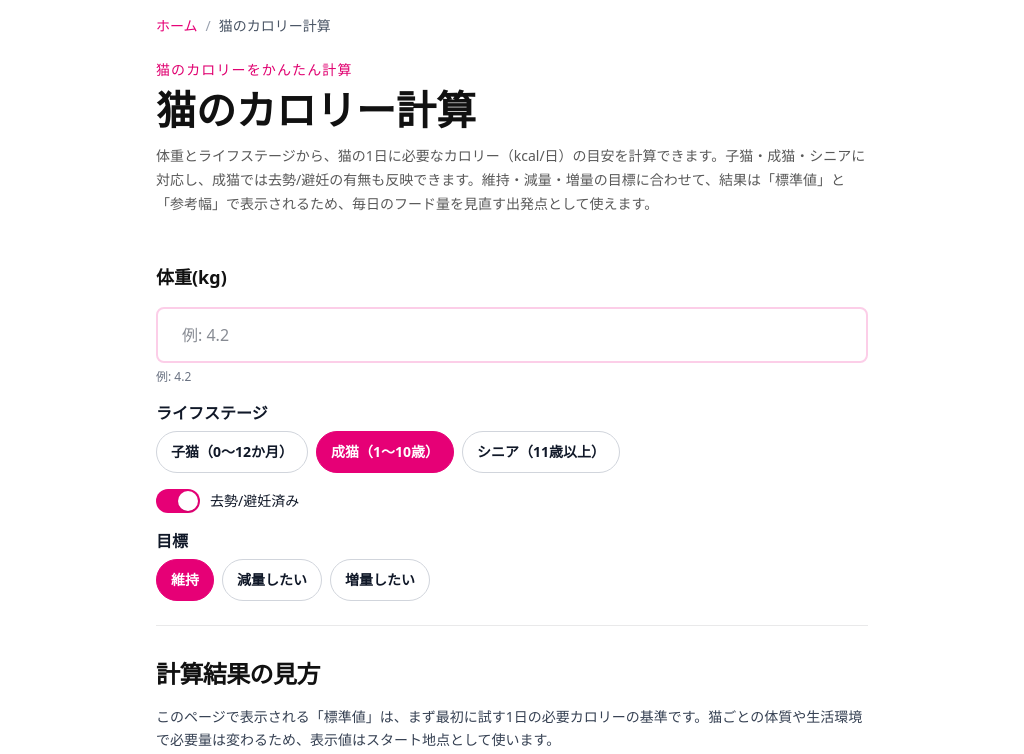
Test: CatCalorieCalculator analytics › does not send calculation_complete when input is invalid
Type "0.1" into the number field labelled "体重(kg)" at (512, 335), box [156, 307, 868, 363]
Wait 1000 ms
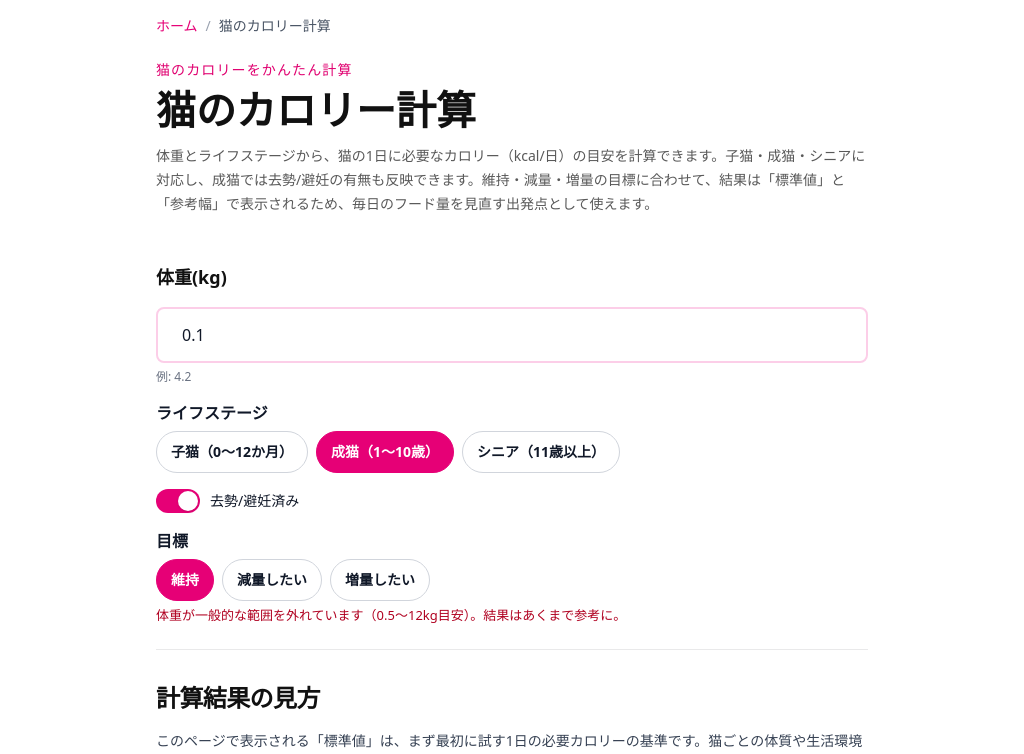
Now the message "体重が一般的な範囲を外れています（0.5〜12kg目安）。結果はあくまで参考に。" is shown, box [156, 606, 626, 624]
